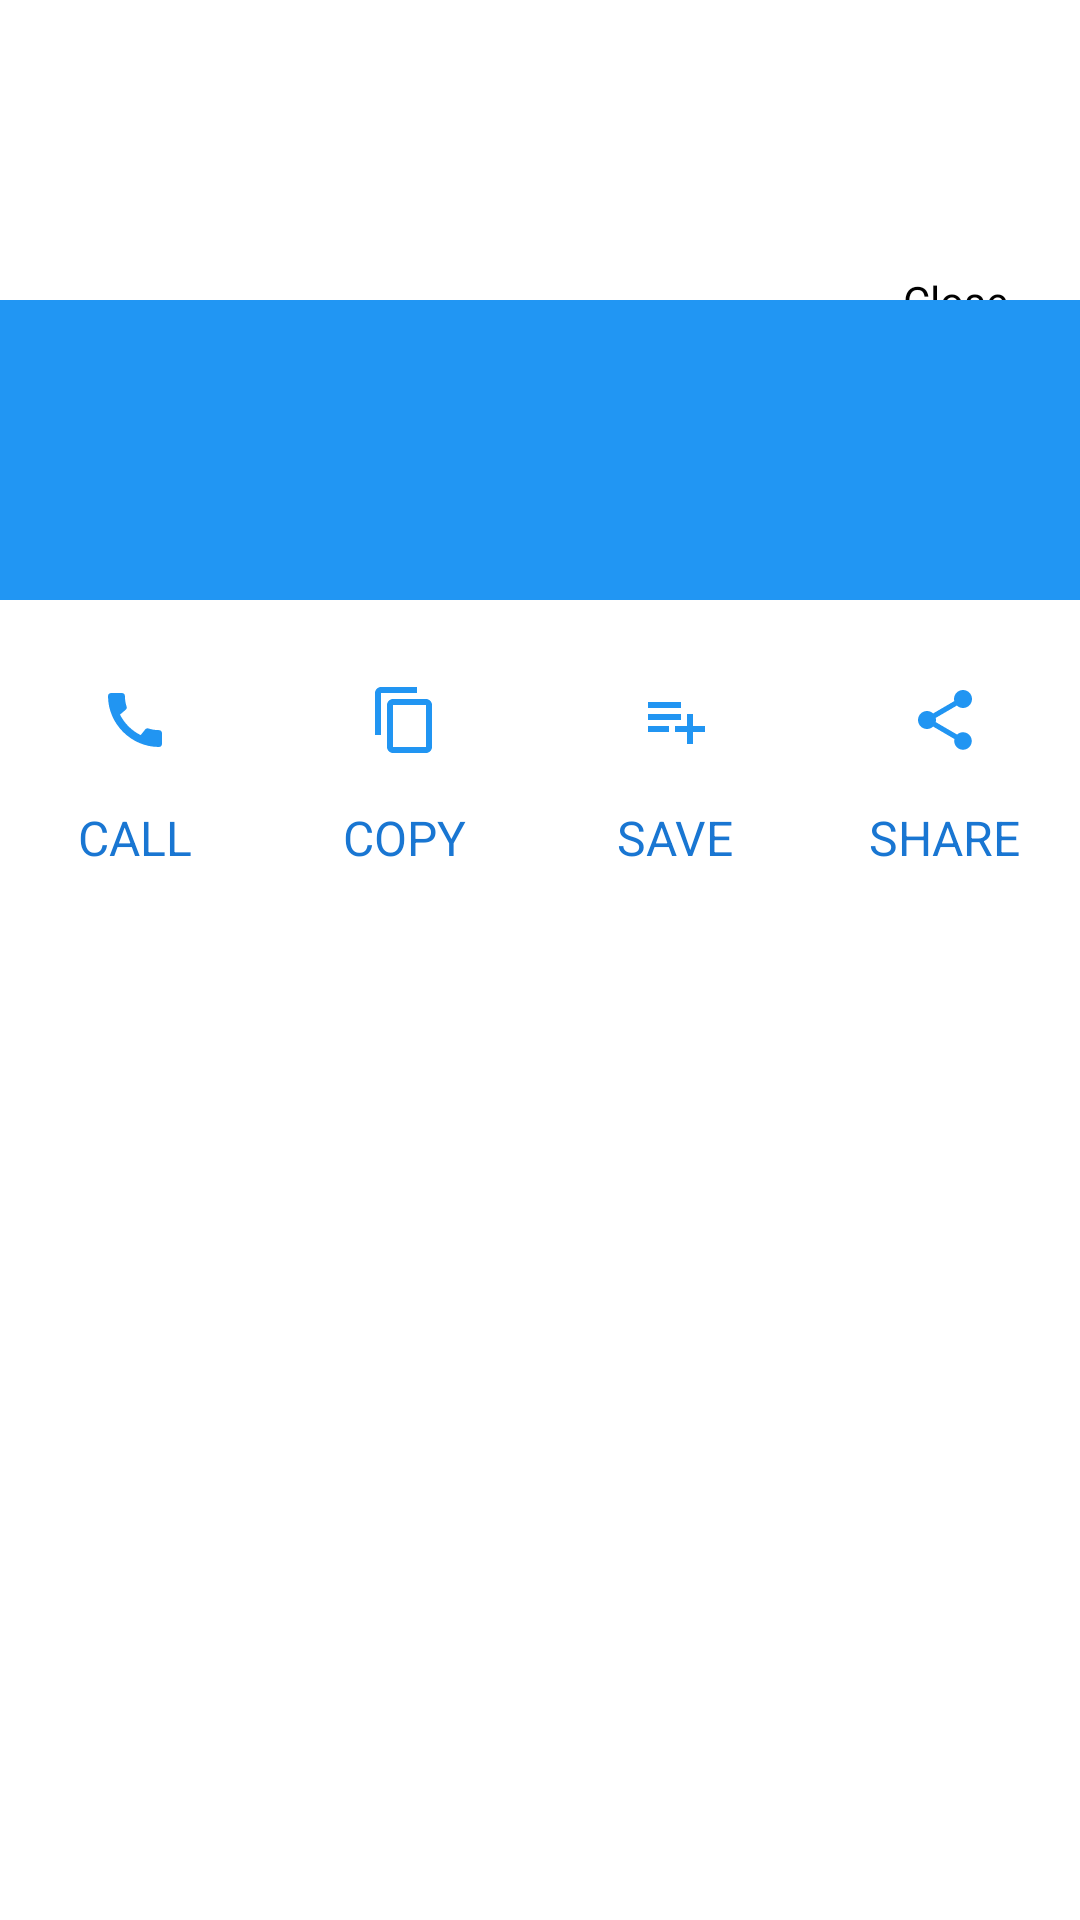

Locate icon controls on the screen. Image size 1080px x 1920px, boxes as (x1, y1, x2, y2).
playlist add: (648, 702, 705, 744)
